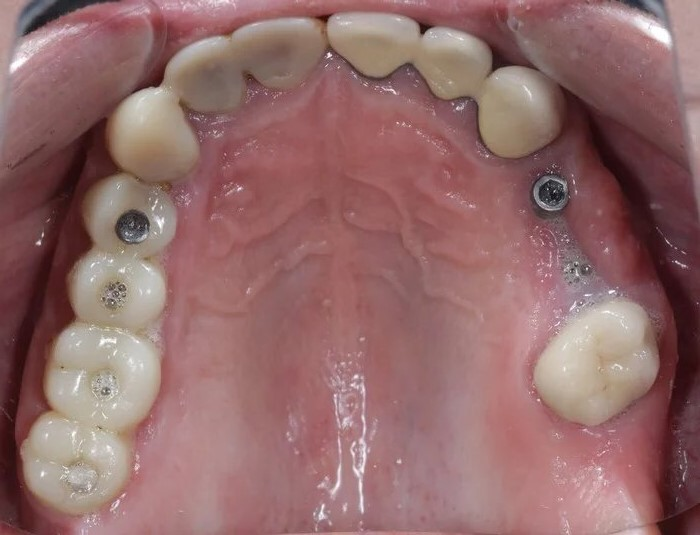UL1BC_decay: (498, 160, 599, 231)
UL1M_healthy: (537, 301, 657, 425)
UL2BC_decay: (519, 229, 623, 302)
UL2M_decay: (546, 429, 660, 523)
ULCI_decay: (327, 11, 418, 79)
ULC_decay: (476, 67, 563, 158)
ULLI_decay: (417, 28, 491, 102)
UR1BC_decay: (87, 177, 176, 256)
UR1M_decay: (49, 328, 158, 425)
UR2BC_decay: (66, 252, 164, 325)
UR2M_decay: (25, 415, 131, 510)
URCI_decay: (234, 19, 326, 88)
URC_healthy: (115, 90, 197, 177)
URLI_decay: (168, 38, 243, 113)
